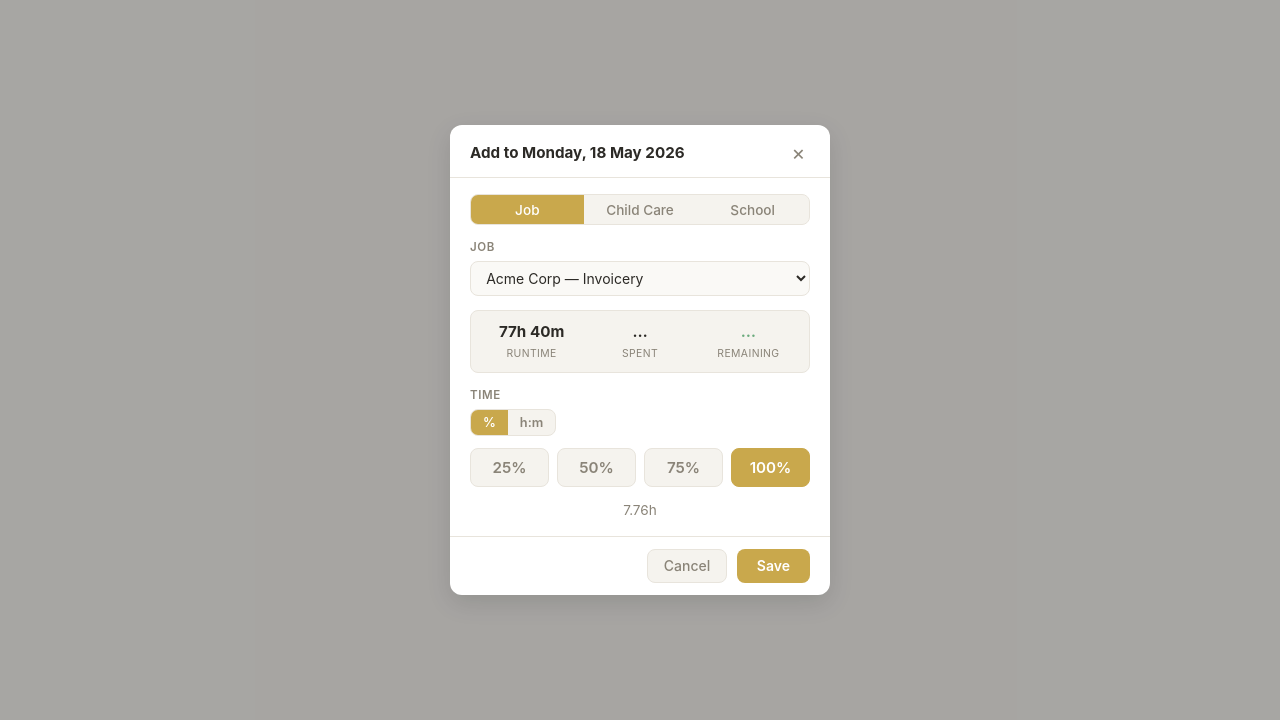
Test: AddEntryModal › shows decimal-hour preview for the selected percentage
Check: the text "7.76h" is shown, box [623,502,657,518]
Click the button "50%" at (596, 468), box [557,448,636,487]
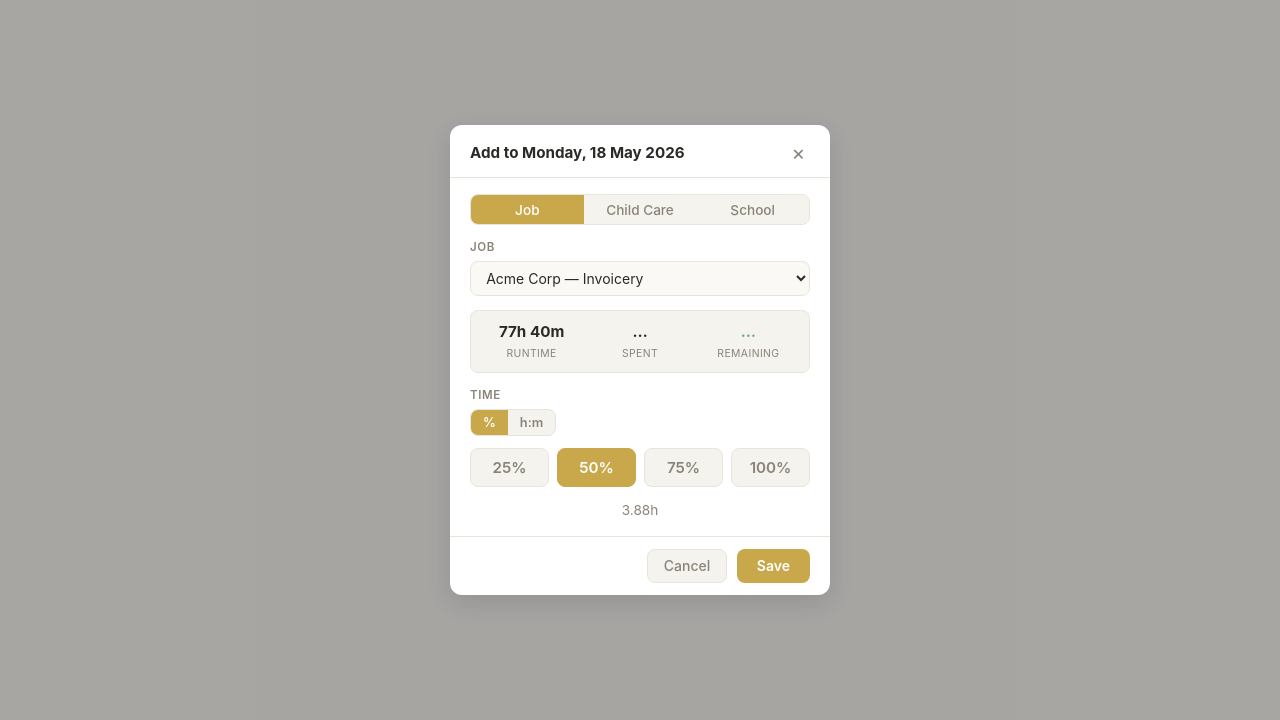
Check: the text "3.88h" is shown, box [622,502,658,518]
Click the button "25%" at (510, 468), box [470,448,549,487]
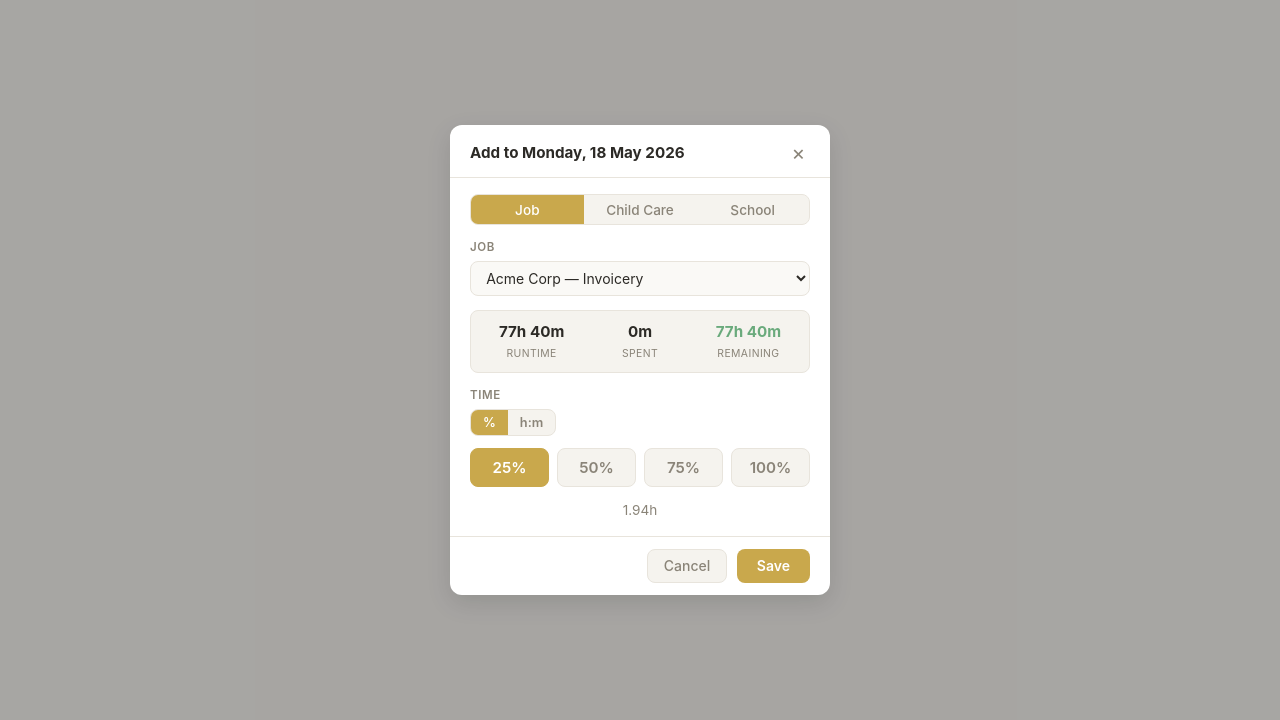
Check: the text "1.94h" is shown, box [623,502,657,518]
